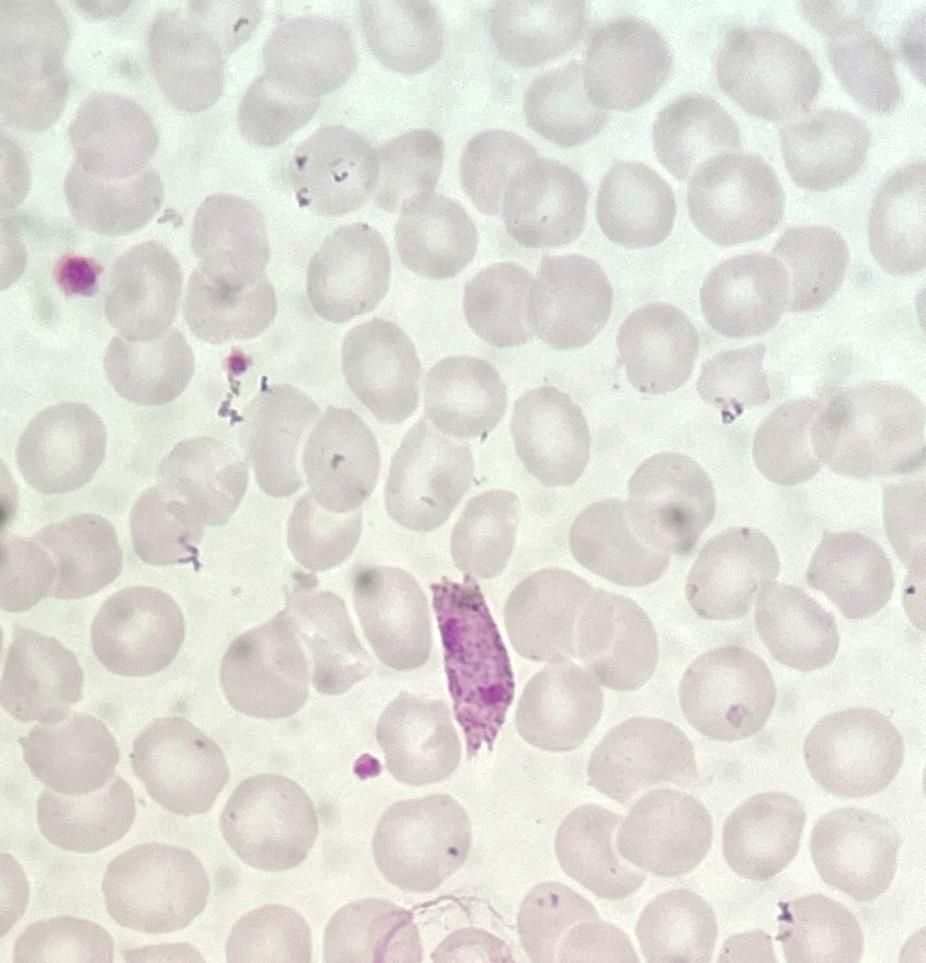Infected: (432, 573, 522, 756)
Uninfected: (812, 380, 925, 477), (500, 567, 604, 667), (126, 715, 228, 816), (382, 419, 474, 530), (220, 614, 315, 719), (286, 580, 376, 688), (240, 379, 323, 496), (370, 794, 470, 891), (622, 453, 716, 556), (566, 497, 671, 588), (102, 842, 207, 933), (585, 714, 692, 802), (219, 772, 316, 869), (714, 26, 816, 118), (299, 405, 385, 514), (611, 785, 711, 878), (676, 647, 774, 740), (348, 565, 433, 672), (0, 3, 72, 129), (152, 434, 247, 529), (258, 14, 356, 106), (684, 153, 782, 245), (801, 708, 902, 797), (145, 8, 232, 111), (552, 802, 647, 896), (18, 711, 119, 799), (458, 259, 554, 351), (568, 591, 660, 687), (685, 527, 781, 618), (88, 585, 184, 676), (304, 225, 393, 323), (99, 240, 186, 340), (337, 318, 423, 419), (287, 124, 380, 217), (15, 401, 108, 494), (579, 19, 672, 111), (808, 806, 900, 899), (804, 528, 896, 620), (63, 152, 162, 237), (67, 92, 160, 182), (28, 513, 122, 602), (187, 191, 273, 288), (812, 19, 900, 113), (508, 383, 591, 482), (524, 253, 611, 347), (498, 157, 588, 247), (372, 694, 462, 784), (697, 249, 790, 336), (515, 880, 614, 960), (512, 663, 603, 750), (180, 262, 274, 345), (35, 777, 136, 854), (1, 627, 84, 720), (720, 791, 805, 881), (775, 108, 869, 188), (751, 581, 837, 668), (419, 353, 505, 439), (614, 301, 698, 389), (459, 129, 541, 218), (769, 224, 849, 315), (593, 161, 675, 248), (750, 397, 830, 486), (522, 63, 608, 145), (128, 483, 209, 570), (392, 196, 475, 280), (651, 95, 738, 175), (102, 329, 192, 406), (447, 489, 520, 579), (285, 492, 363, 576), (368, 130, 447, 212), (487, 0, 583, 66), (694, 339, 773, 418), (359, 1, 444, 73), (776, 893, 862, 963), (634, 889, 717, 961), (321, 898, 408, 962), (236, 74, 312, 146)
